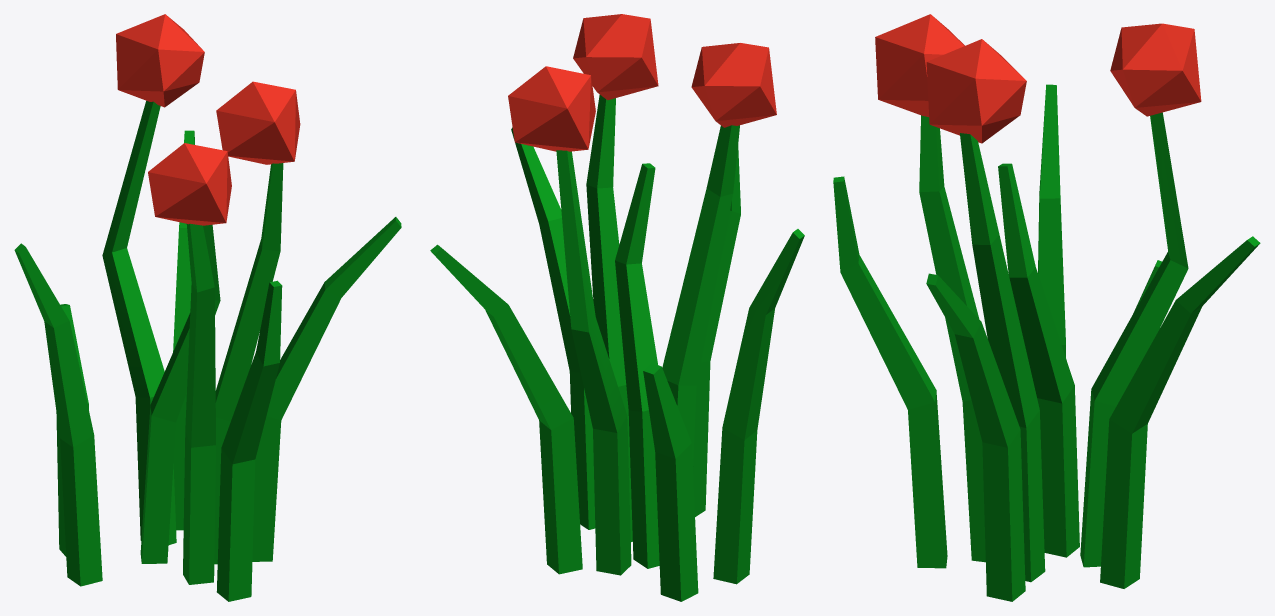
File: flower.fbx
3 renders of one model, left to right at view 1: azimuth 30°, elevation 25°; view 2: azimuth 150°, elevation 25°; view 3: azimuth 270°, elevation 25°, orthographic. The views are drawn at different scales.
Parts seen in each view (by area): view 1: Flower1; view 2: Flower1; view 3: Flower1.
Part boxes in pixels (x1=…): Flower1: x1=14, y1=14, x2=401, y2=601; Flower1: x1=430, y1=14, x2=804, y2=601; Flower1: x1=833, y1=14, x2=1260, y2=601.
Size of the model in its own units: 32.37 by 46.2 by 32.12.
Materials: 1 (1 with a texture image).
